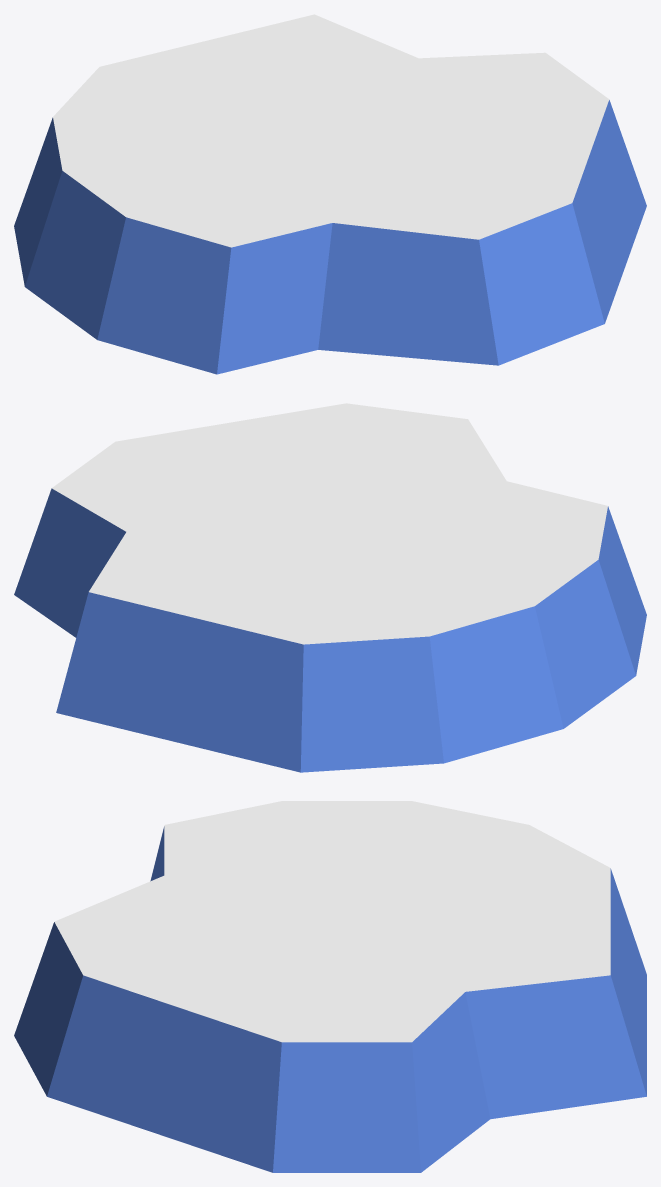
File: Rock032.fbx
The picture shows the model from 3 angles, top to bottom: view 1: azimuth 30°, elevation 25°; view 2: azimuth 150°, elevation 25°; view 3: azimuth 270°, elevation 25°; orthographic projection. The views are drawn at different scales.
Visible parts, largest first — view 1: Rock032; view 2: Rock032; view 3: Rock032.
Boxes of the visible parts, x1,y1,x2,y2 form: Rock032: [14, 14, 646, 374]; Rock032: [14, 403, 646, 772]; Rock032: [14, 801, 646, 1172].
Bounding box in the file's own units: 76.1 × 14.75 × 74.19.
